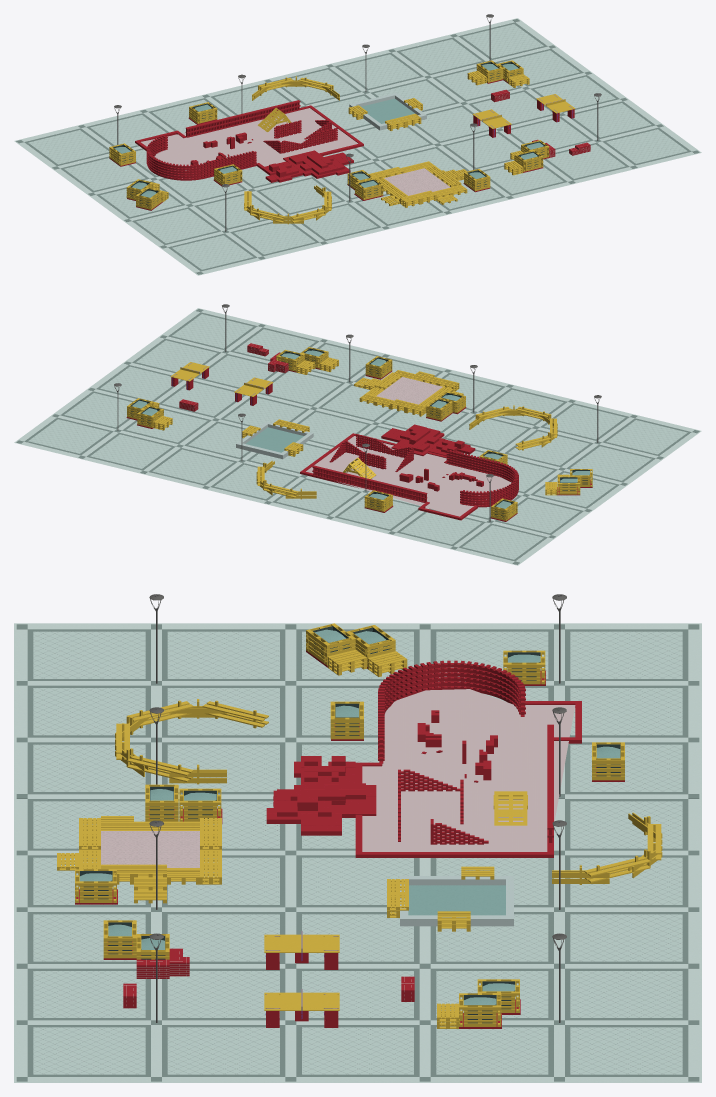
3 views of the same model, one above another, from view 1: azimuth 30°, elevation 25°; view 2: azimuth 150°, elevation 25°; view 3: azimuth 270°, elevation 25° (orthographic). The views are drawn at different scales.
Visible parts, largest first — view 1: square 1 component, object 6, Shape Bender Component#1, object 1, object 2, object 4; view 2: square 1 component, object 6, Shape Bender Component#1, object 1, object 2, object 4; view 3: square 1 component, object 6, object 1, Shape Bender Component#1, object 2, object 4.
Part boxes in pixels (x1,y1,x2,y2): square 1 component: [16, 19, 699, 274]; object 6: [14, 18, 701, 275]; Shape Bender Component#1: [109, 14, 601, 231]; object 1: [109, 60, 575, 224]; object 2: [141, 108, 450, 195]; object 4: [114, 64, 543, 197]; square 1 component: [16, 309, 699, 564]; object 6: [14, 308, 701, 565]; Shape Bender Component#1: [114, 304, 601, 521]; object 1: [127, 347, 592, 520]; object 2: [306, 377, 511, 516]; object 4: [132, 350, 589, 508]; square 1 component: [16, 624, 699, 1081]; object 6: [14, 623, 701, 1082]; object 1: [57, 623, 662, 1028]; Shape Bender Component#1: [75, 594, 624, 1028]; object 2: [101, 689, 575, 867]; object 4: [79, 629, 620, 1004].
Size of the model in its own units: 1.8 by 0.172 by 1.14.
8 materials, 8 textured.
